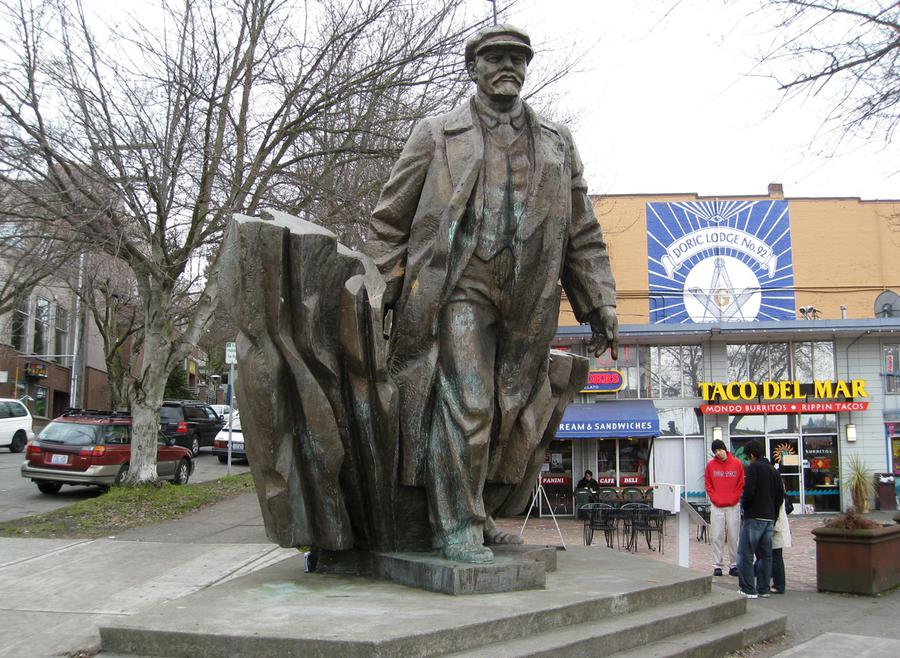person: (737, 446, 784, 598), (701, 435, 744, 580), (573, 469, 601, 493)
person-like: (369, 22, 625, 570)
